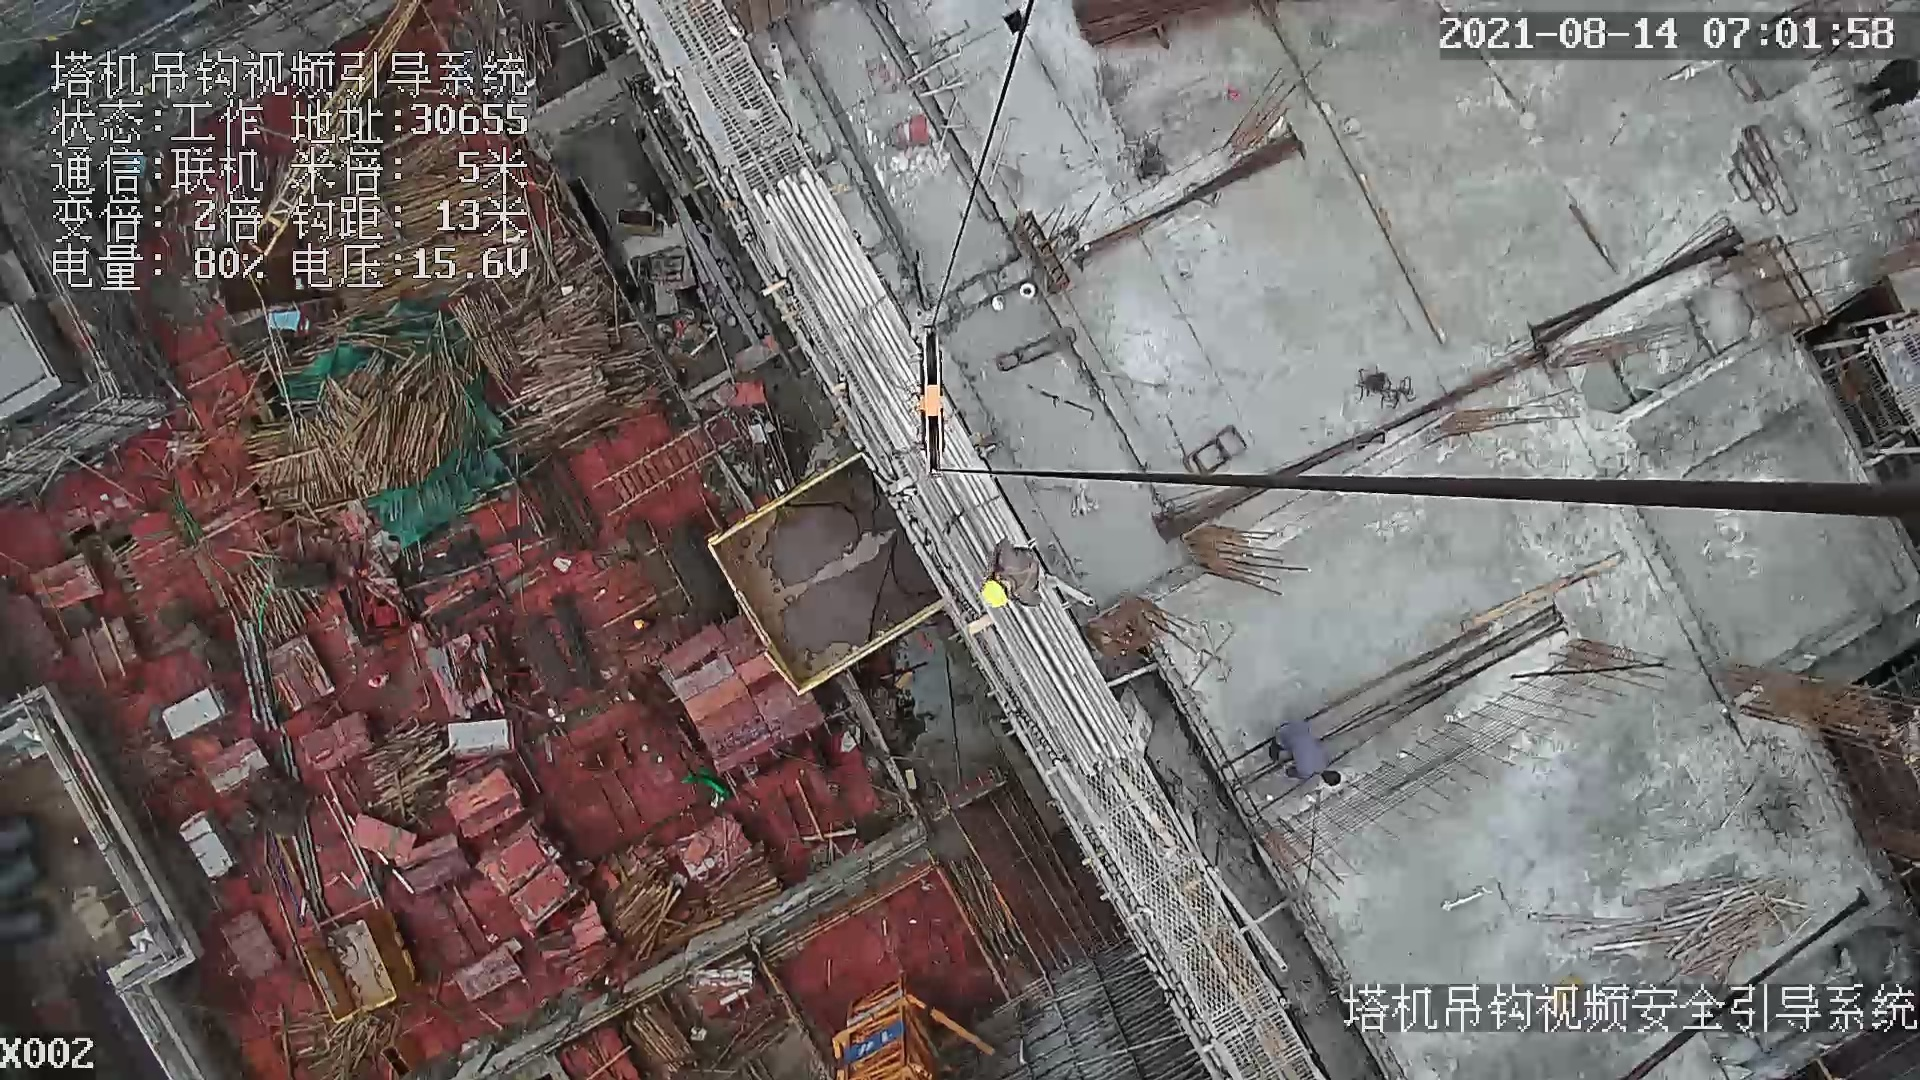helmet: (978, 578, 1015, 611)
hook: (913, 328, 976, 485)
person: (1267, 712, 1341, 789), (981, 544, 1055, 613)
